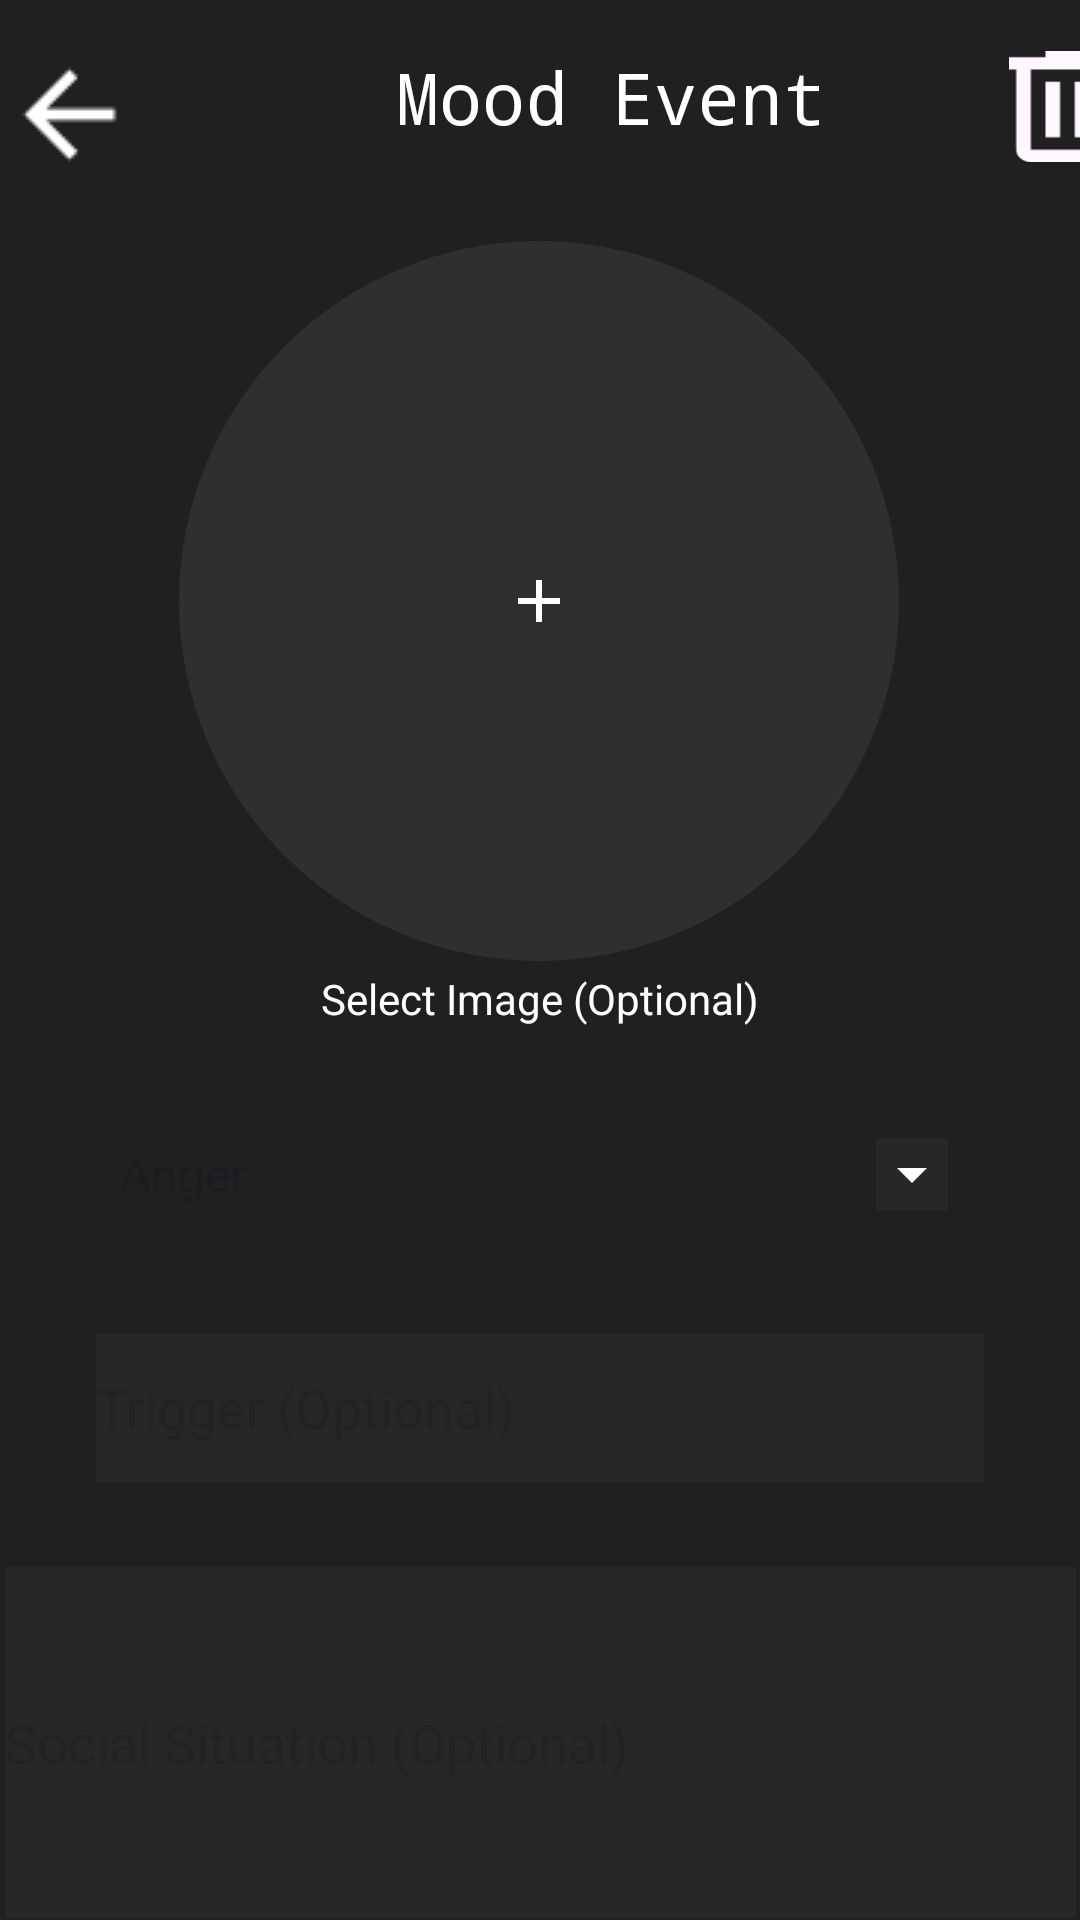

Icons on this 1080px×1920px Android screen, each with the point to tap as (x,y):
back: (70,114)
